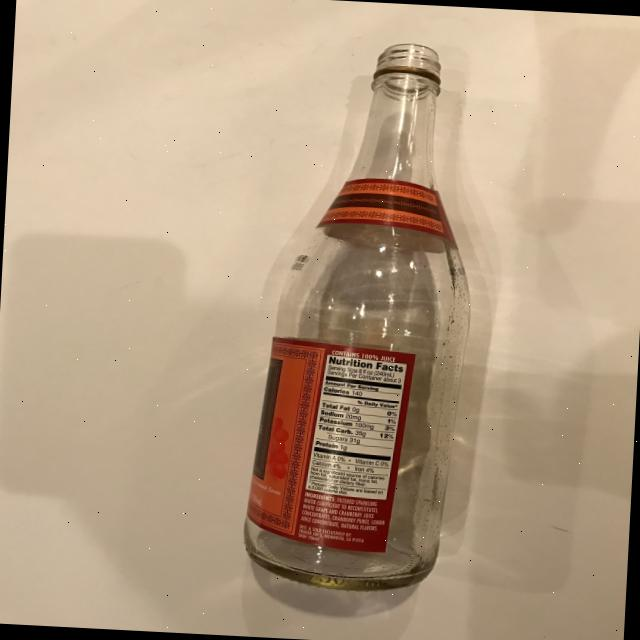glass: (240, 36, 484, 596)
